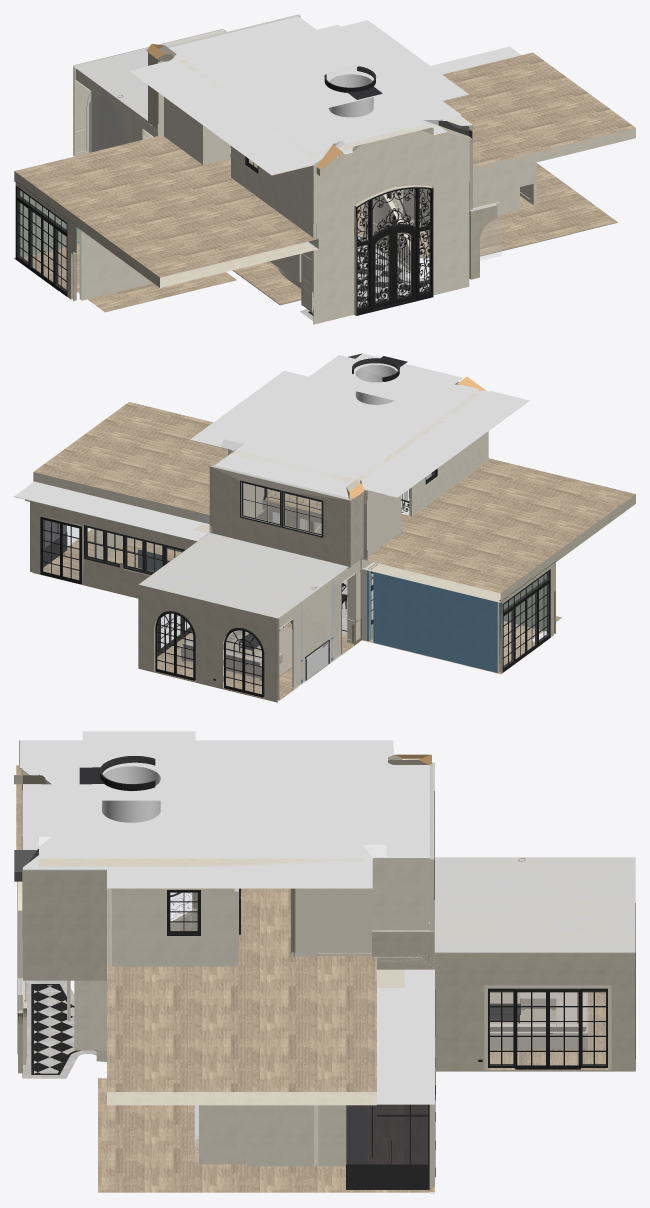
Rendered from family-room-60fdc1f87bf1.glb.
The picture shows the model from 3 angles, top to bottom: view 1: azimuth 30°, elevation 25°; view 2: azimuth 150°, elevation 25°; view 3: azimuth 270°, elevation 25°; orthographic projection. The views are drawn at different scales.
Parts seen in each view (by area): view 1: family-room-look-2575515a05775d9e, family-room-look-e8793759323e04f0, family-room-look-9d91b47435c6fb33, family-room-look-34525a54e63b733b, family-room-look-3b0077416469e01b, family-room-look-d5a4a1b5d3594c04, family-room-look-5f56640b372ec5ce, family-room-look-746250f96522f643, family-room-4a969f5cc1ae3dfe, family-room-look-d999b7e09afcf2f4, family-room-look-bce662e26d5a5947, family-room-9d80b152e3f2ea10 (+31 smaller); view 2: family-room-look-2575515a05775d9e, family-room-look-e8793759323e04f0, family-room-look-9d91b47435c6fb33, family-room-4a969f5cc1ae3dfe, family-room-look-b19b106fc304963c, family-room-look-245f595ae2832e16, family-room-969b861f9850351e, family-room-look-bfb9fa537cd11d1d, family-room-9d80b152e3f2ea10, family-room-look-9a0e9ee9b2a451d7, family-room-look-5f56640b372ec5ce, family-room-50d54560d247b537 (+27 smaller); view 3: family-room-look-2575515a05775d9e, family-room-look-e8793759323e04f0, family-room-4a969f5cc1ae3dfe, family-room-look-9d91b47435c6fb33, family-room-look-3b0077416469e01b, family-room-e706aa16b4547c37, family-room-50d54560d247b537, family-room-look-62353aa10fc57f23, family-room-look-c51ecd664a3b22a3, family-room-look-9a0e9ee9b2a451d7, family-room-look-5f56640b372ec5ce, family-room-look-69af8f587252f9fa (+28 smaller).
Boxes of the visible parts, x1=… form: family-room-look-2575515a05775d9e: x1=14, y1=52, x2=635, y2=287; family-room-look-e8793759323e04f0: x1=179, y1=23, x2=461, y2=156; family-room-look-9d91b47435c6fb33: x1=129, y1=16, x2=472, y2=175; family-room-look-34525a54e63b733b: x1=313, y1=126, x2=469, y2=243; family-room-look-3b0077416469e01b: x1=14, y1=163, x2=617, y2=304; family-room-look-d5a4a1b5d3594c04: x1=313, y1=207, x2=469, y2=324; family-room-look-5f56640b372ec5ce: x1=252, y1=58, x2=402, y2=115; family-room-look-746250f96522f643: x1=231, y1=146, x2=316, y2=237; family-room-4a969f5cc1ae3dfe: x1=73, y1=29, x2=225, y2=120; family-room-look-d999b7e09afcf2f4: x1=79, y1=229, x2=152, y2=300; family-room-look-bce662e26d5a5947: x1=355, y1=187, x2=433, y2=315; family-room-9d80b152e3f2ea10: x1=76, y1=69, x2=157, y2=151; family-room-look-2575515a05775d9e: x1=33, y1=402, x2=635, y2=602; family-room-look-e8793759323e04f0: x1=221, y1=355, x2=478, y2=483; family-room-look-9d91b47435c6fb33: x1=190, y1=370, x2=529, y2=498; family-room-4a969f5cc1ae3dfe: x1=138, y1=532, x2=348, y2=618; family-room-look-b19b106fc304963c: x1=373, y1=570, x2=499, y2=672; family-room-look-245f595ae2832e16: x1=209, y1=465, x2=350, y2=566; family-room-969b861f9850351e: x1=138, y1=585, x2=279, y2=701; family-room-look-bfb9fa537cd11d1d: x1=30, y1=501, x2=196, y2=597; family-room-9d80b152e3f2ea10: x1=279, y1=559, x2=360, y2=688; family-room-look-9a0e9ee9b2a451d7: x1=14, y1=481, x2=209, y2=541; family-room-look-5f56640b372ec5ce: x1=323, y1=353, x2=462, y2=407; family-room-50d54560d247b537: x1=138, y1=532, x2=344, y2=618; family-room-look-2575515a05775d9e: x1=16, y1=765, x2=376, y2=1105; family-room-look-e8793759323e04f0: x1=39, y1=762, x2=386, y2=866; family-room-4a969f5cc1ae3dfe: x1=434, y1=857, x2=635, y2=953; family-room-look-9d91b47435c6fb33: x1=19, y1=740, x2=429, y2=888; family-room-look-3b0077416469e01b: x1=98, y1=925, x2=434, y2=1192; family-room-e706aa16b4547c37: x1=435, y1=953, x2=630, y2=1070; family-room-50d54560d247b537: x1=434, y1=857, x2=635, y2=953; family-room-look-62353aa10fc57f23: x1=23, y1=870, x2=111, y2=980; family-room-look-c51ecd664a3b22a3: x1=112, y1=888, x2=238, y2=966; family-room-look-9a0e9ee9b2a451d7: x1=377, y1=969, x2=434, y2=1104; family-room-look-5f56640b372ec5ce: x1=82, y1=731, x2=195, y2=800; family-room-look-69af8f587252f9fa: x1=291, y1=888, x2=371, y2=952.
Bounding box in the file's own units: 21.02 × 7.94 × 16.88.
Materials: 63 (12 with a texture image).
